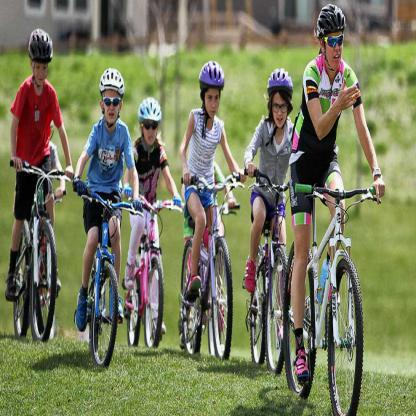person: (287, 2, 382, 384), (10, 26, 70, 342), (74, 68, 134, 334), (180, 60, 238, 328), (238, 69, 298, 300), (124, 96, 174, 331)
